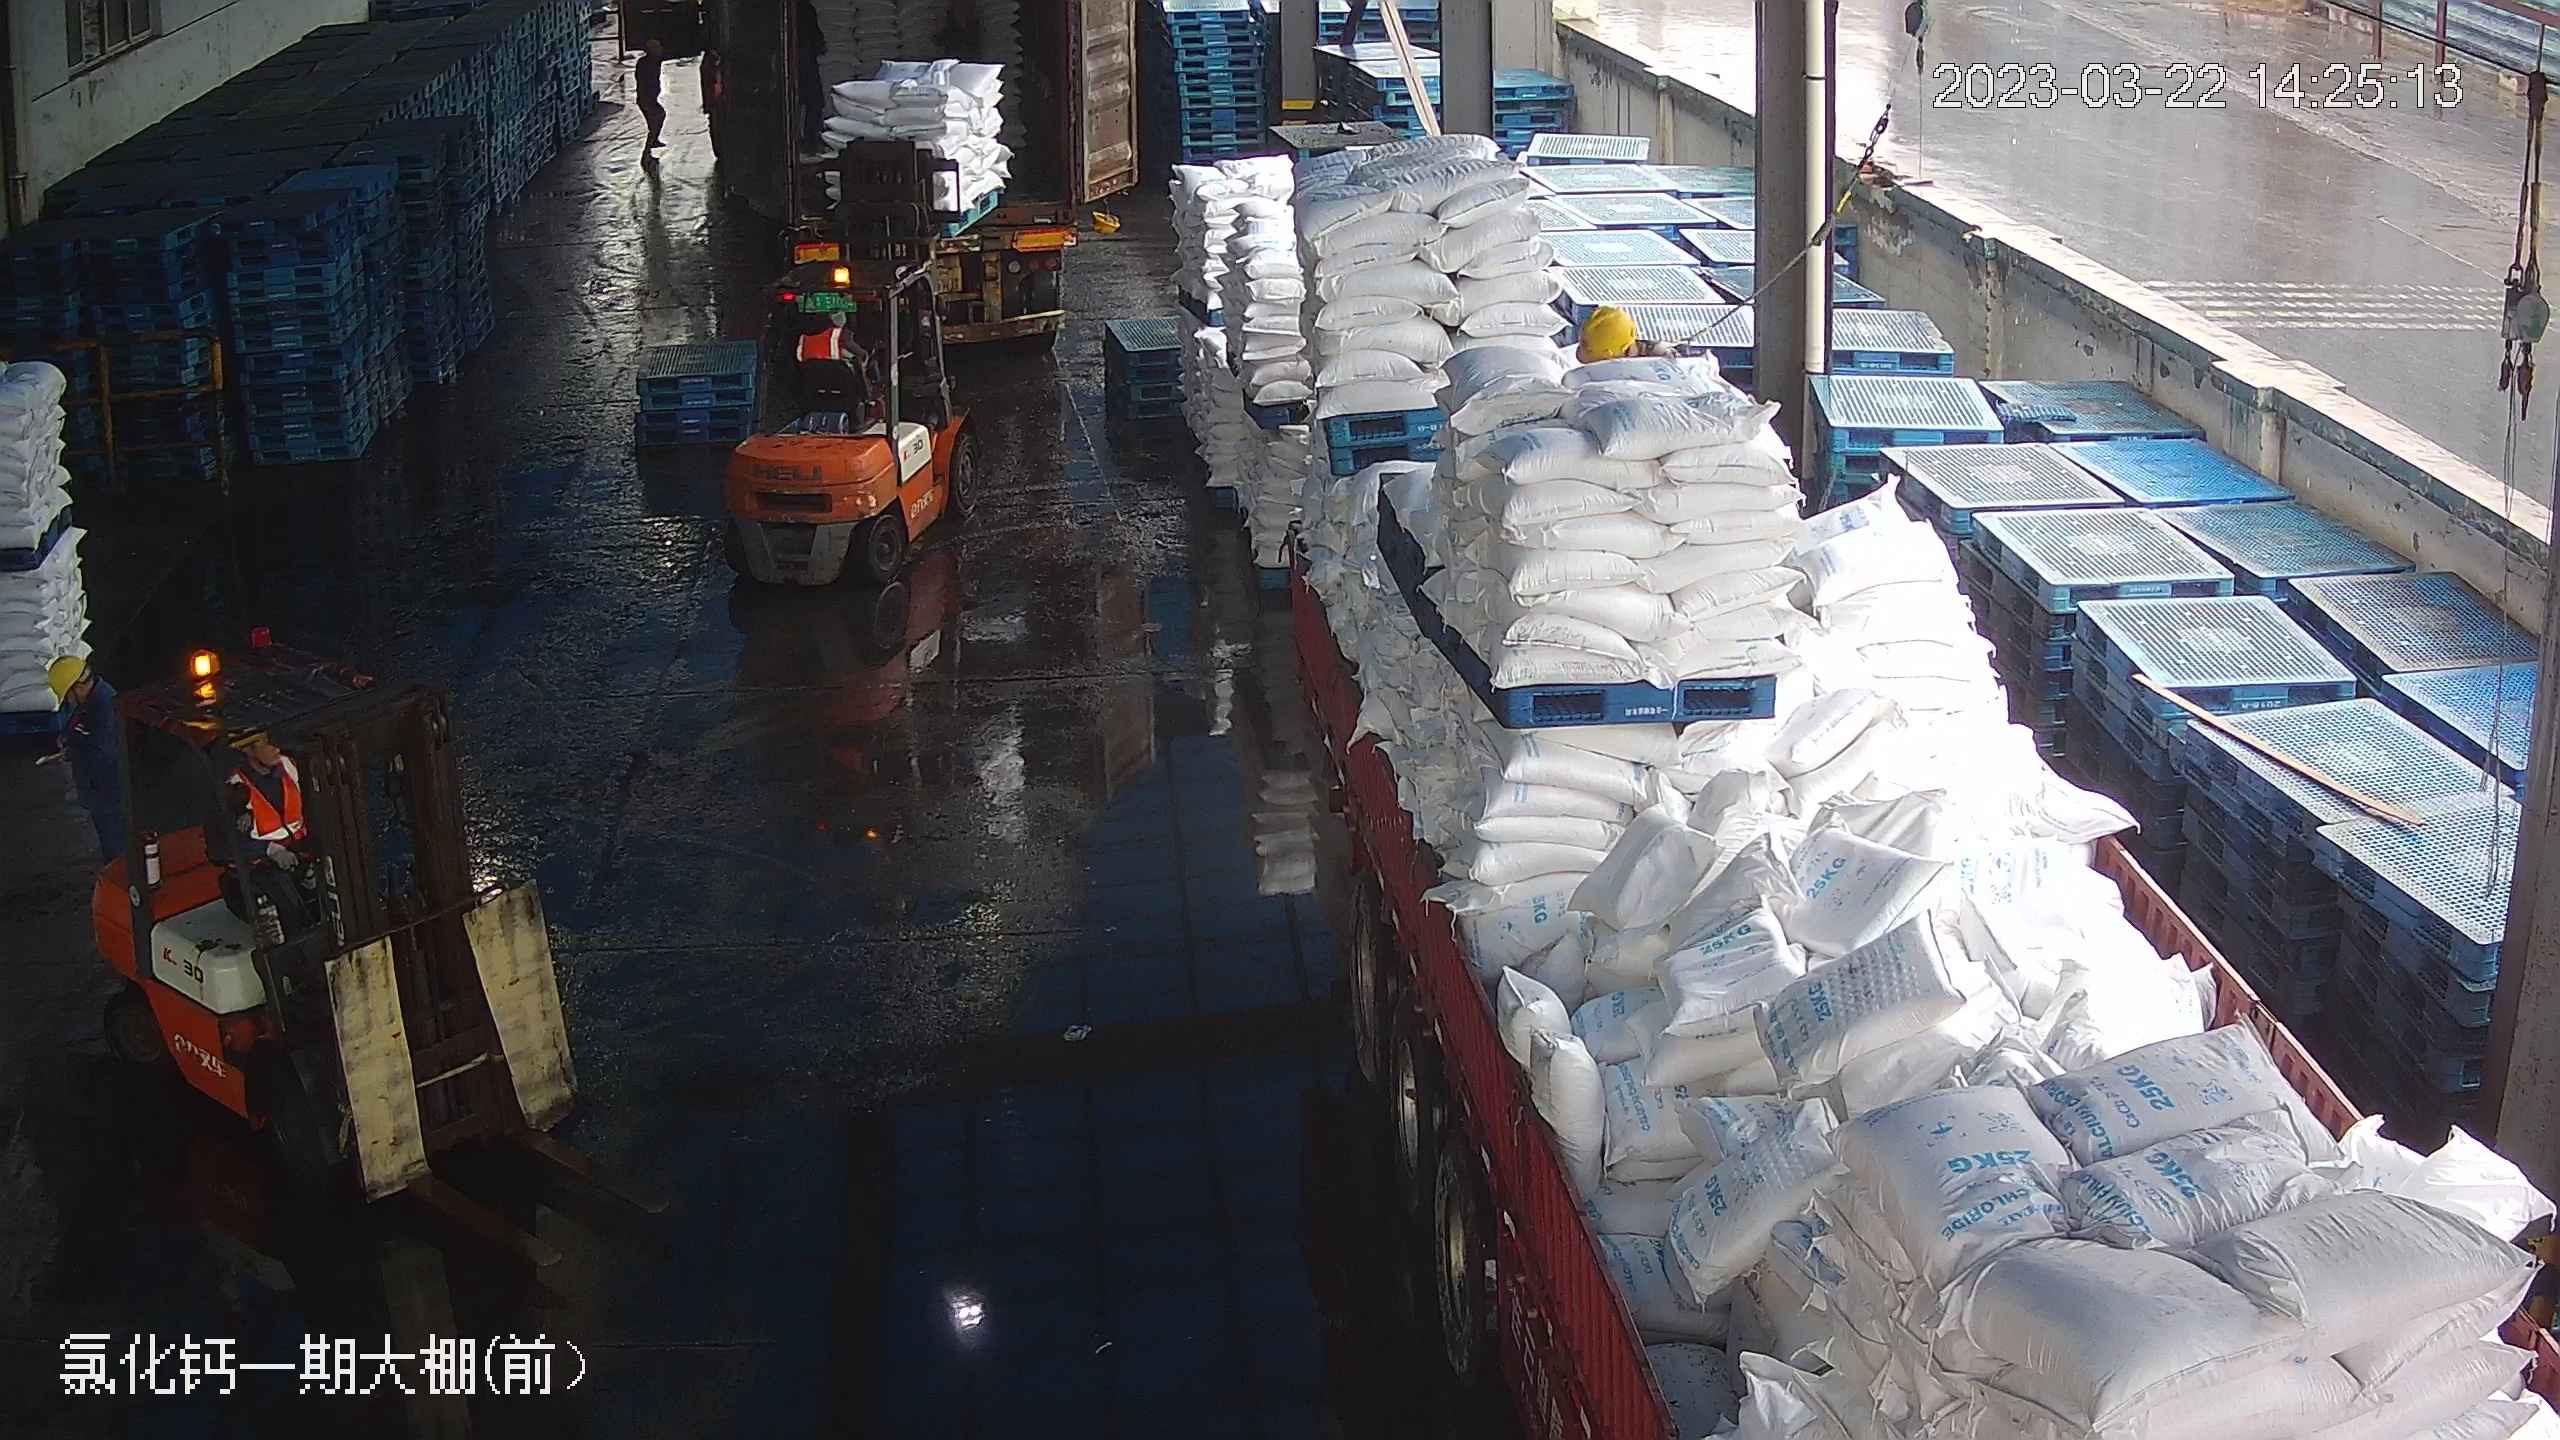head: (42, 651, 116, 738)
helmet: (1576, 299, 1638, 357), (44, 651, 88, 700)
people: (44, 652, 136, 874)
truck: (1212, 101, 2534, 1439), (735, 1, 1152, 354)
